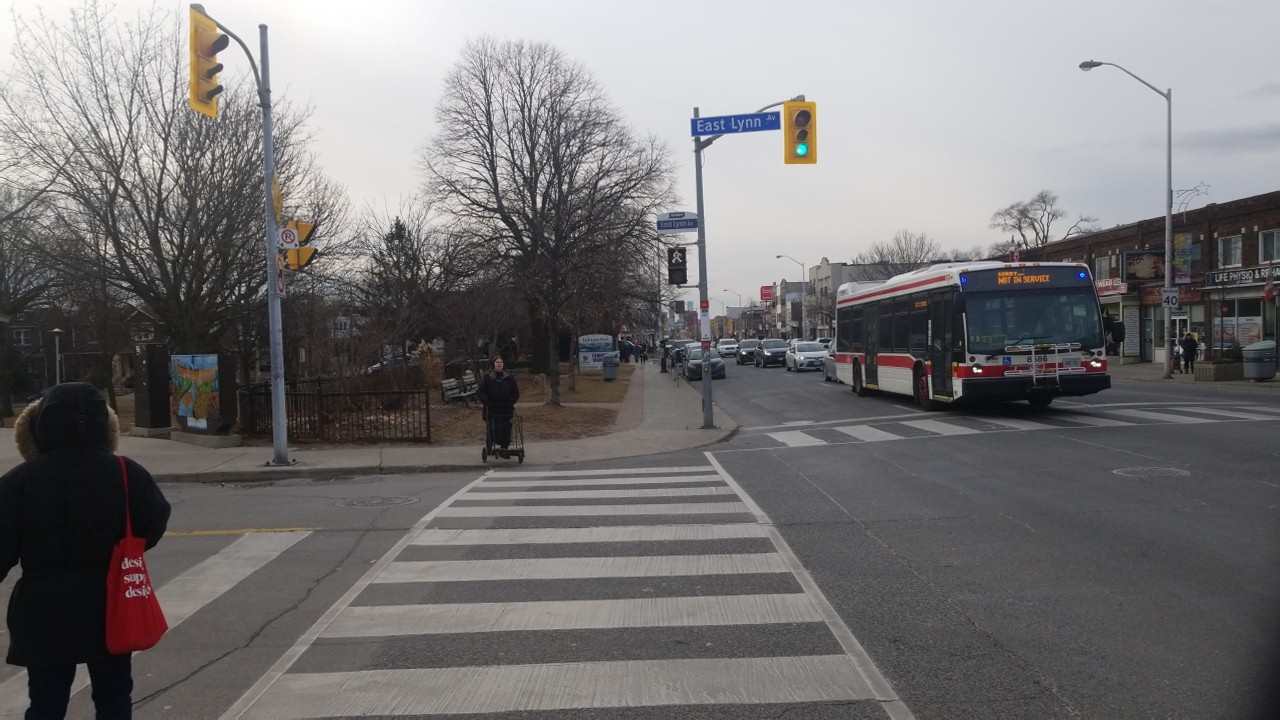light: (664, 239, 691, 288)
